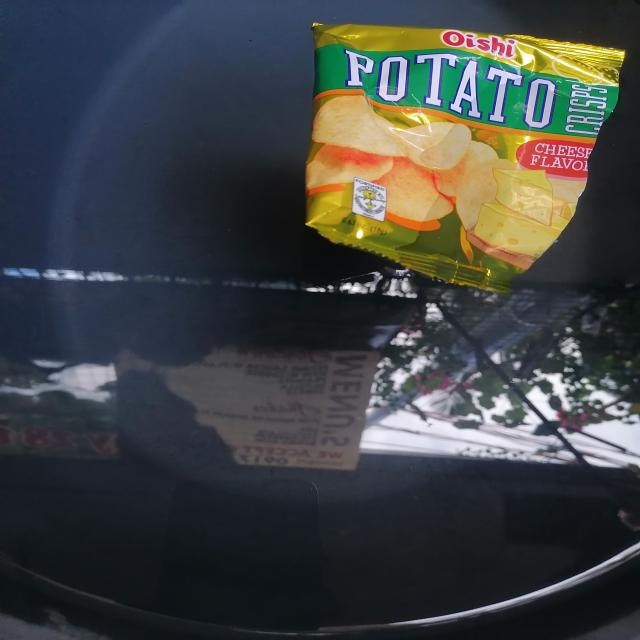Plastic Wrapper: (305, 23, 624, 292)
